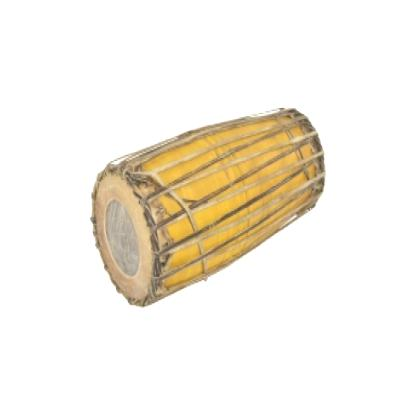Mridangam: (88, 106, 337, 313)
